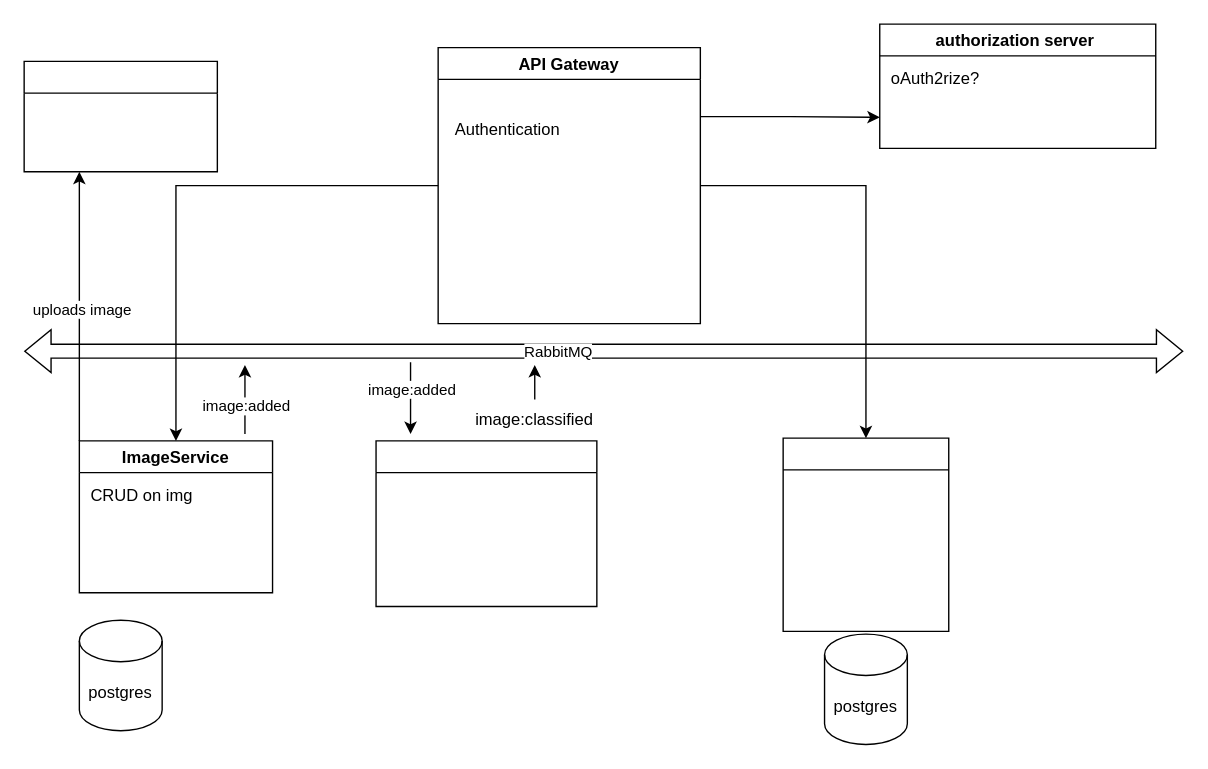
This 1208x769 diagram has some shape labels left out. The centre of each missing label's shape, as x and y in pixels:
CDN: (x=120, y=116)
CommentService: (x=865, y=534)
ImageProcessorWorker: (x=486, y=523)
